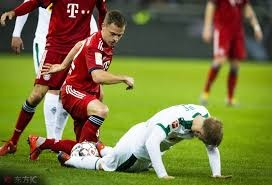falling: (29, 103, 238, 176)
